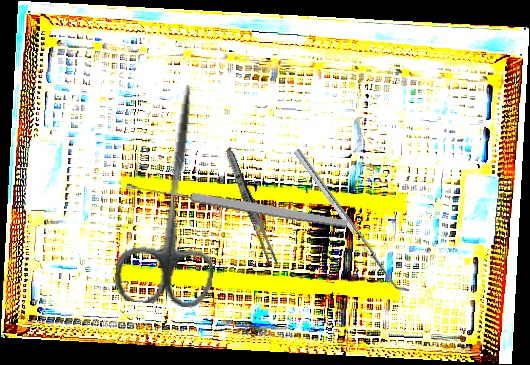Dressing Forceps: (221, 146, 281, 268)
Iris Scissors: (112, 79, 233, 310)
Spatula Surgical: (293, 144, 411, 298)
Surgical Spoon: (125, 178, 349, 231)
